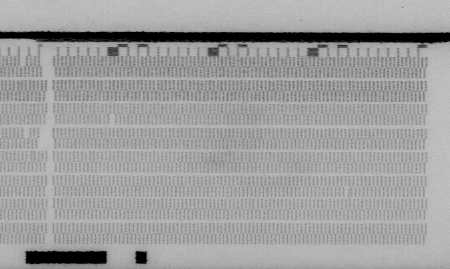Broken hole: (37, 129, 50, 151), (39, 55, 50, 79), (18, 55, 29, 68), (21, 127, 31, 139), (107, 114, 117, 126)
Oblique printing: (343, 187, 354, 199)
